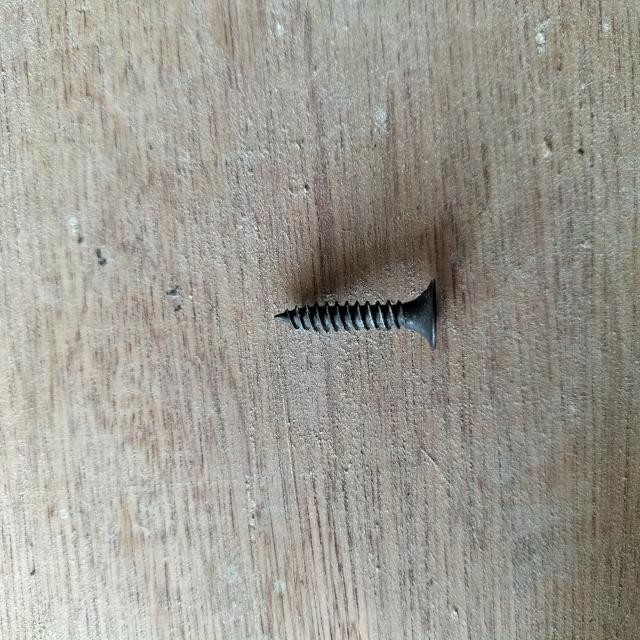screw: (275, 277, 438, 351)
